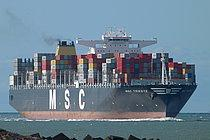Ship: (6, 25, 201, 123)
